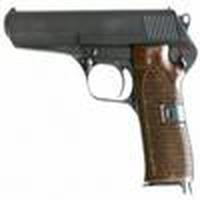gun: (5, 6, 200, 185)
